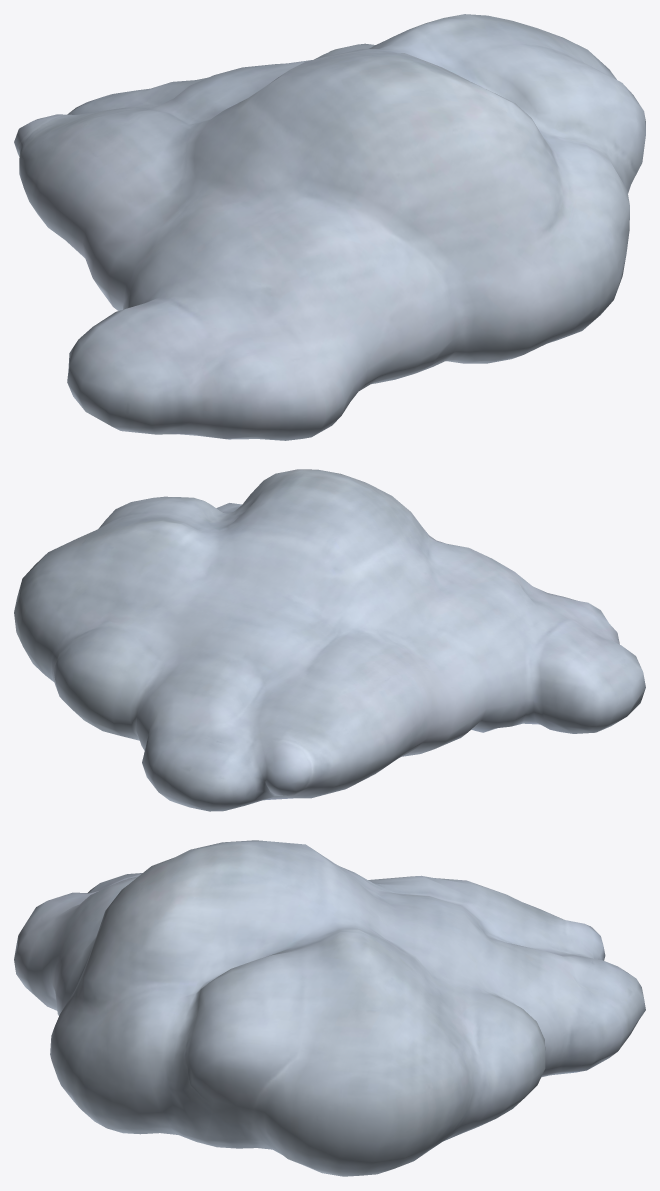
The picture shows the model from 3 angles, top to bottom: view 1: azimuth 30°, elevation 25°; view 2: azimuth 150°, elevation 25°; view 3: azimuth 270°, elevation 25°; orthographic projection. The views are drawn at different scales.
Parts seen in each view (by area): view 1: mesh; view 2: mesh; view 3: mesh.
Boxes of the visible parts, box(x1,y1,x2,y2) form: mesh: box(14, 14, 645, 440); mesh: box(14, 469, 645, 811); mesh: box(14, 840, 645, 1176).
Size of the model in its own units: 0.997 by 0.3886 by 0.9346.
1 material, 1 textured.
